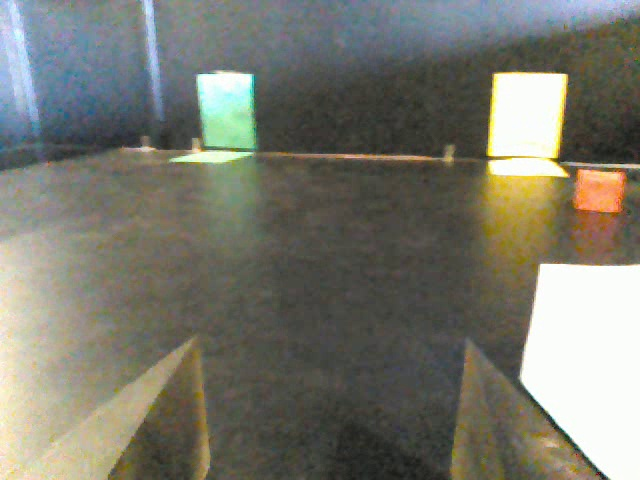cube: (575, 161, 622, 218)
